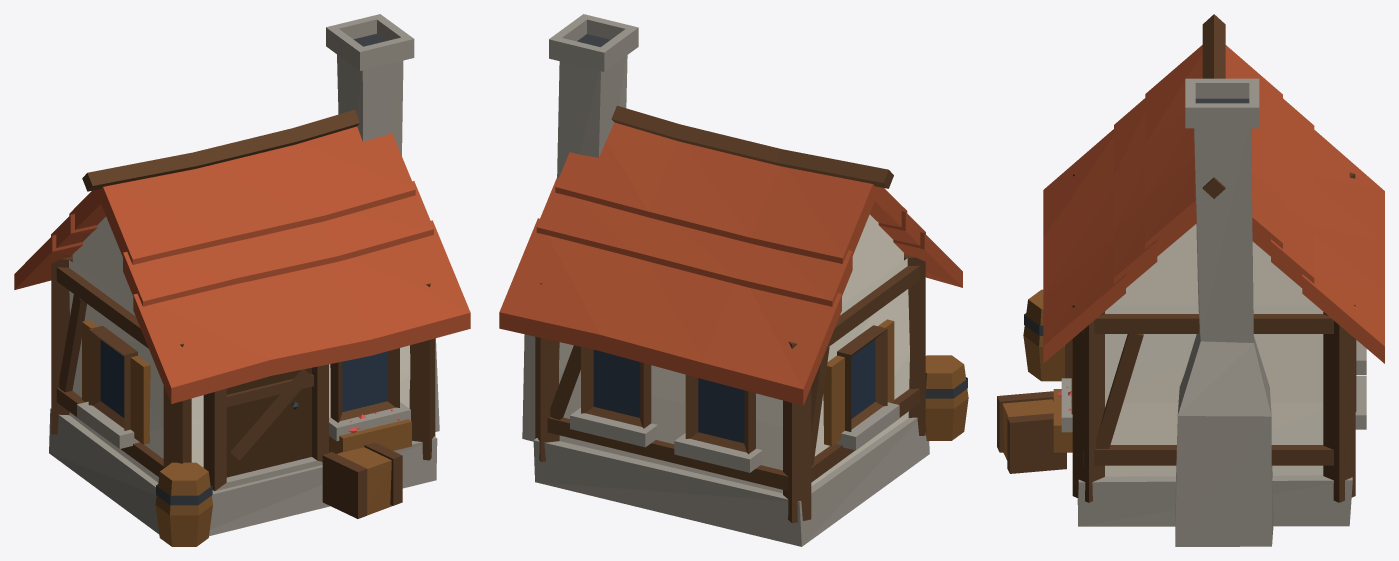
Rendered from workshop_a.glb.
The picture shows the model from 3 angles, left to right: view 1: azimuth 30°, elevation 25°; view 2: azimuth 150°, elevation 25°; view 3: azimuth 270°, elevation 25°; orthographic projection. The views are drawn at different scales.
Parts seen in each view (by area): view 1: workshop_a; view 2: workshop_a; view 3: workshop_a.
Boxes of the visible parts, <box> form: workshop_a: <box>14,14,470,546</box>; workshop_a: <box>499,14,968,546</box>; workshop_a: <box>997,14,1384,546</box>.
Bounding box in the file's own units: 0.7377 × 0.84 × 0.6813.
